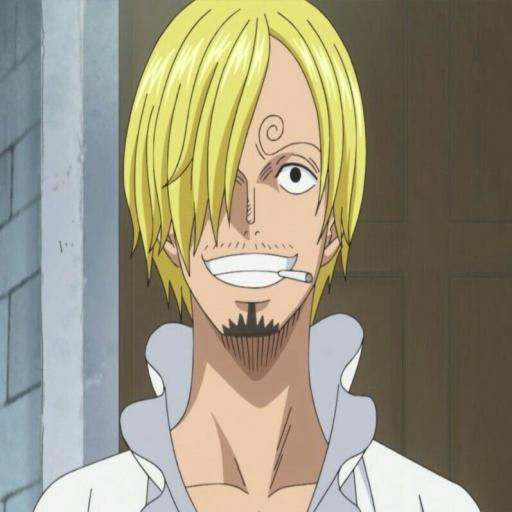sanji: (38, 3, 476, 512)
